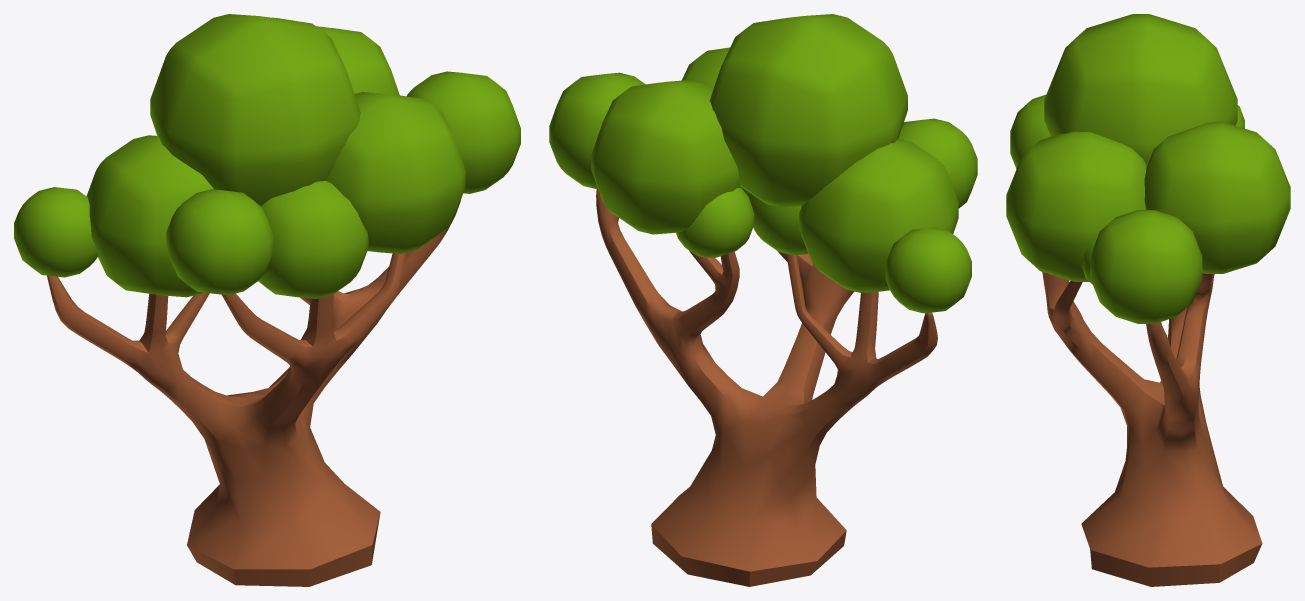
File: e_tree02.fbx
The picture shows the model from 3 angles, left to right: view 1: azimuth 30°, elevation 25°; view 2: azimuth 150°, elevation 25°; view 3: azimuth 270°, elevation 25°; orthographic projection. The views are drawn at different scales.
Visible parts, largest first — view 1: e_tree02; view 2: e_tree02; view 3: e_tree02.
Part boxes in pixels (x1,y1,x2,y2): e_tree02: [14, 14, 520, 586]; e_tree02: [549, 14, 977, 586]; e_tree02: [1006, 14, 1290, 586].
Bounding box in the file's own units: 5.44 × 6.36 × 3.16.
